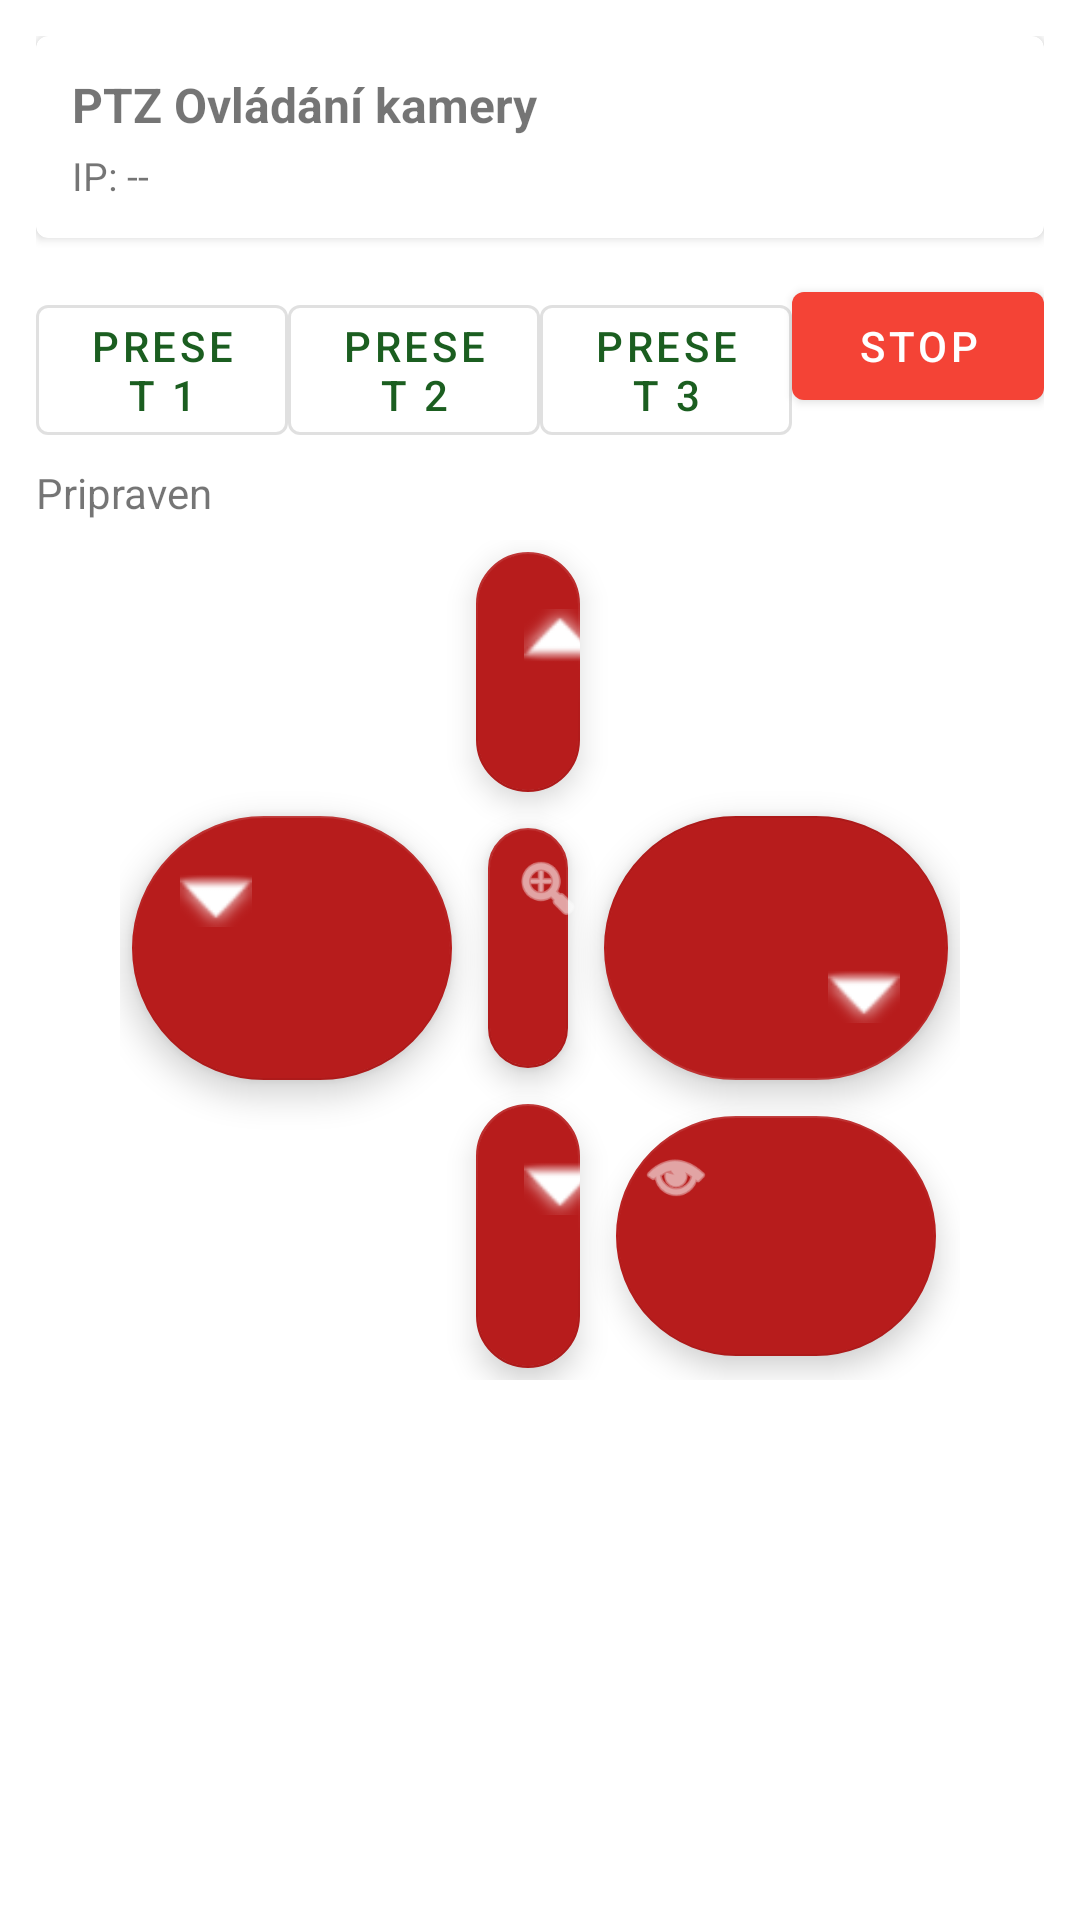

Point at icon controls on the screen. Image size 1080 x 1920, points as (x,y).
Dolu: (528,1236)
Nahoru: (528,672)
Zoom IN: (528,950)
